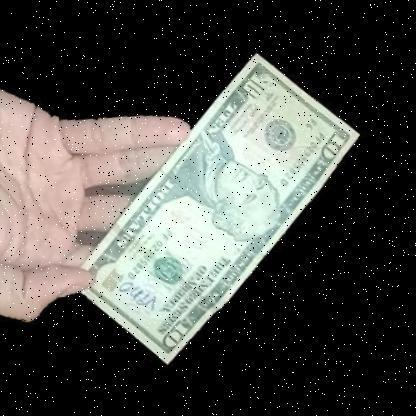ten-front: (0, 22, 399, 398)
